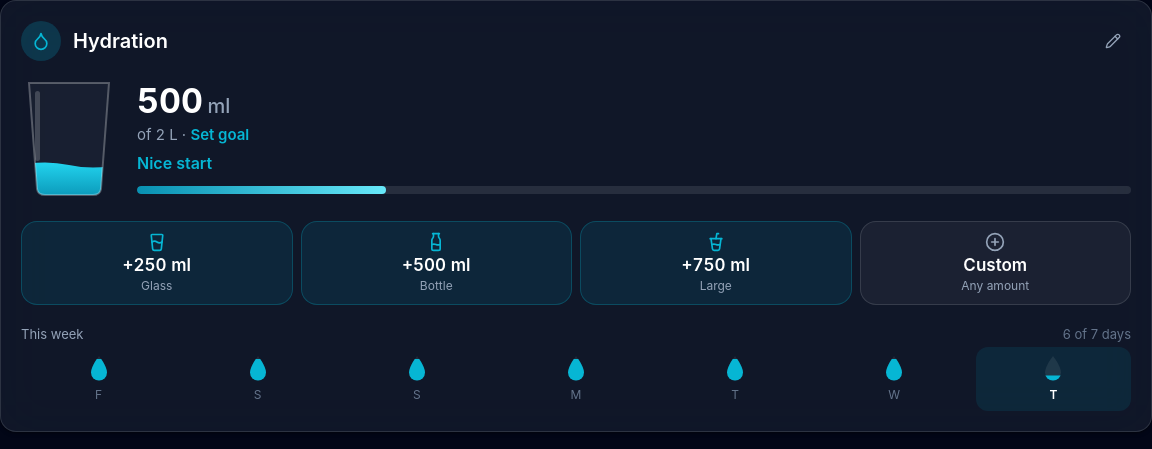
Scenario: HydrationCard › adds a preset optimistically and keeps it when the log succeeds
Check: the text with test id "hydration-today" reads "500", box [137,80,203,121]
Click the button with test id "water-preset-bottle": x=436, y=263 [300,221,572,305]
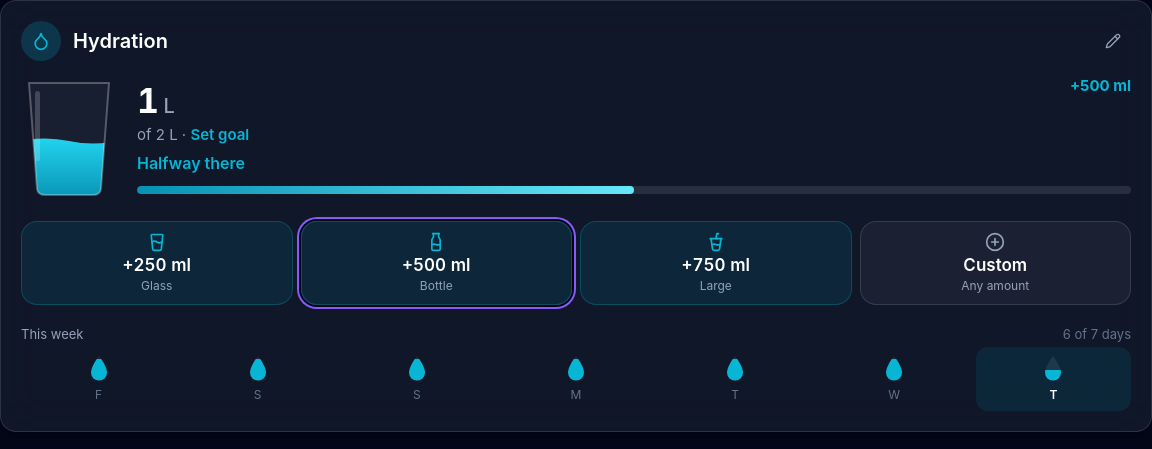
Check: the text "L" is shown, box [164,94,175,118]
Check: the text with test id "hydration-today" reads "1", box [137,80,159,121]
